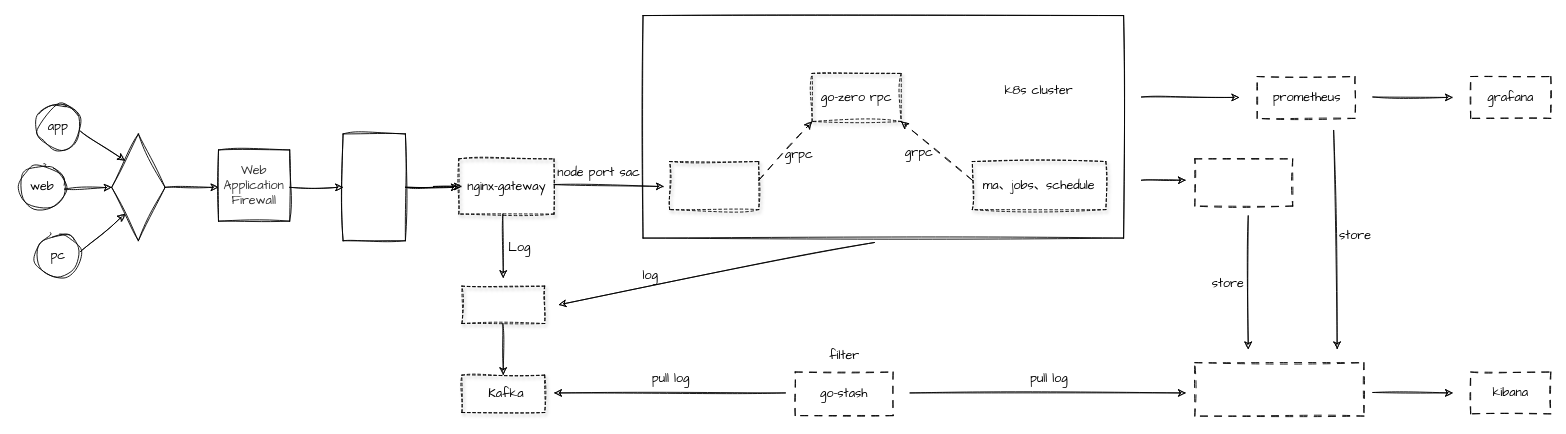
Some shapes in this 1566 by 434 pixel diagram are drawn without their labels. Each missing label, with the centre of its shape:
"CDN" belongs at (x=138, y=187).
"elasticsearch" belongs at (x=1279, y=389).
"Filebeat" belongs at (x=503, y=306).
"go-zero api" belongs at (x=714, y=186).
"jaeger" belongs at (x=1243, y=182).
"Service Load Balance" belongs at (x=373, y=187).
